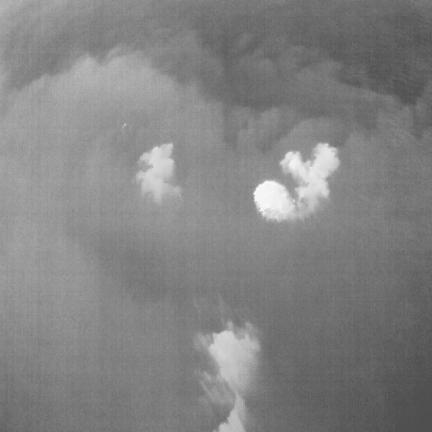flukeprints: (280, 143, 339, 217), (209, 326, 260, 395), (136, 143, 180, 203), (253, 181, 294, 221), (213, 402, 246, 431)
